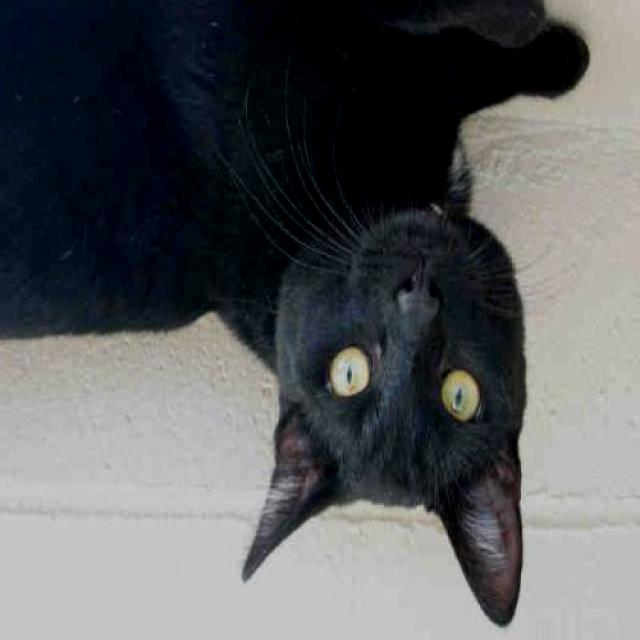Kucing: (0, 0, 600, 633)
